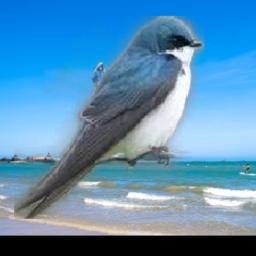Swallow: (14, 17, 205, 220)
